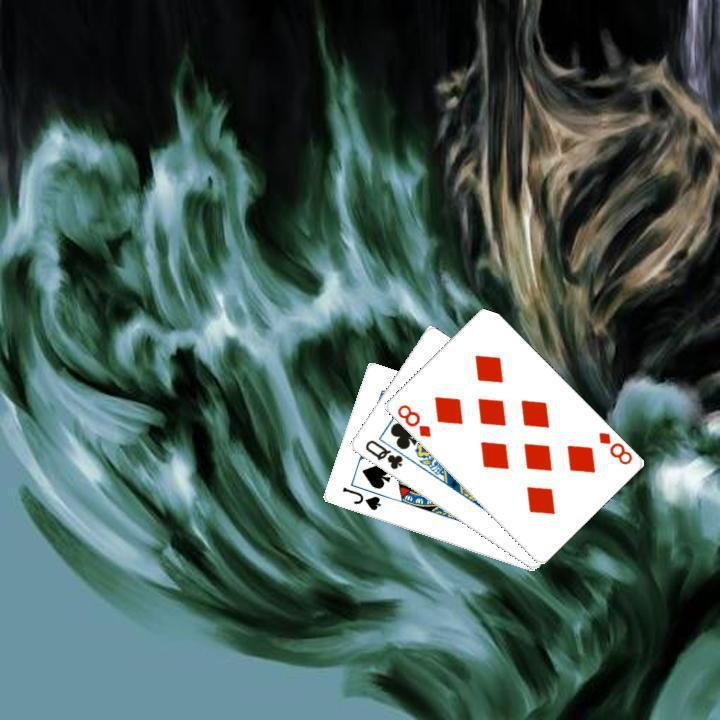8: (392, 400, 433, 439), (594, 428, 634, 467)
J: (338, 483, 383, 513)
Q: (360, 435, 405, 472)
